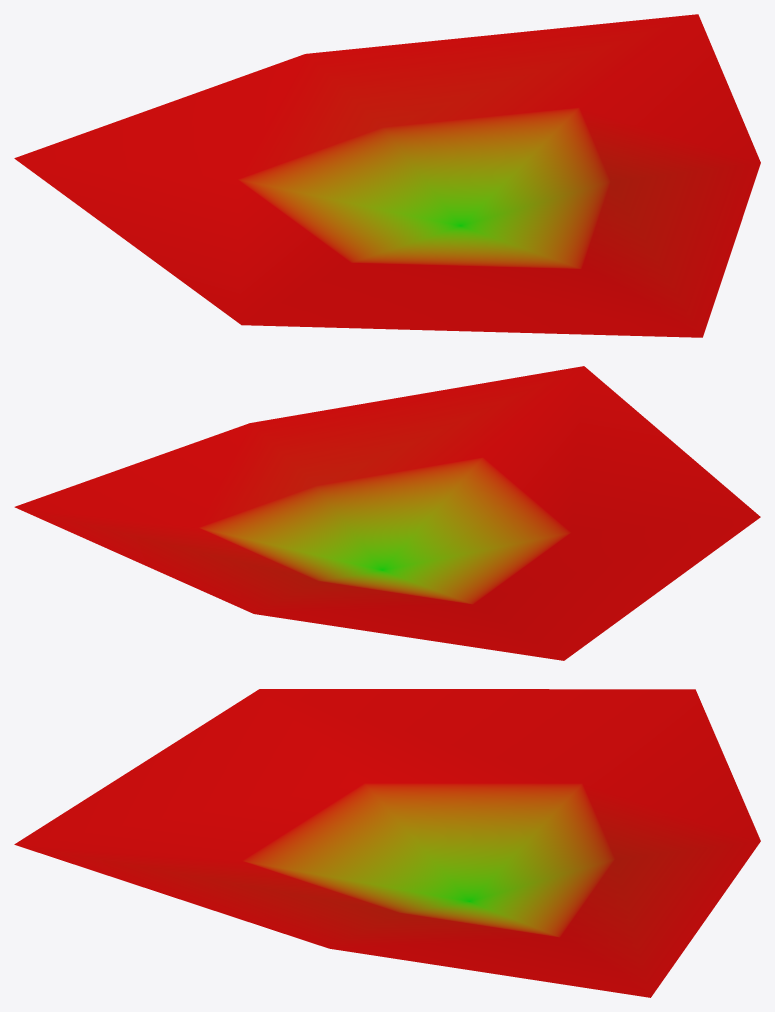
The model's file is Var10_LOD3.fbx.
3 renders of one model, top to bottom at view 1: azimuth 30°, elevation 25°; view 2: azimuth 150°, elevation 25°; view 3: azimuth 270°, elevation 25°, orthographic. The views are drawn at different scales.
Visible parts, largest first — view 1: _xyfj_Var10_LOD3; view 2: _xyfj_Var10_LOD3; view 3: _xyfj_Var10_LOD3.
Part boxes in pixels (x1=…): _xyfj_Var10_LOD3: x1=14, y1=14, x2=760, y2=337; _xyfj_Var10_LOD3: x1=14, y1=366, x2=760, y2=660; _xyfj_Var10_LOD3: x1=14, y1=689, x2=760, y2=997.
Size of the model in its own units: 32.73 by 2.91 by 33.45.
